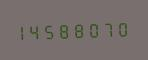eight: (59, 20, 72, 40), (73, 20, 86, 39)
five: (45, 21, 58, 40)
four: (31, 21, 44, 41)
one: (17, 21, 30, 41)
seven: (101, 19, 114, 38)
zero: (87, 19, 100, 39), (115, 18, 128, 38)
